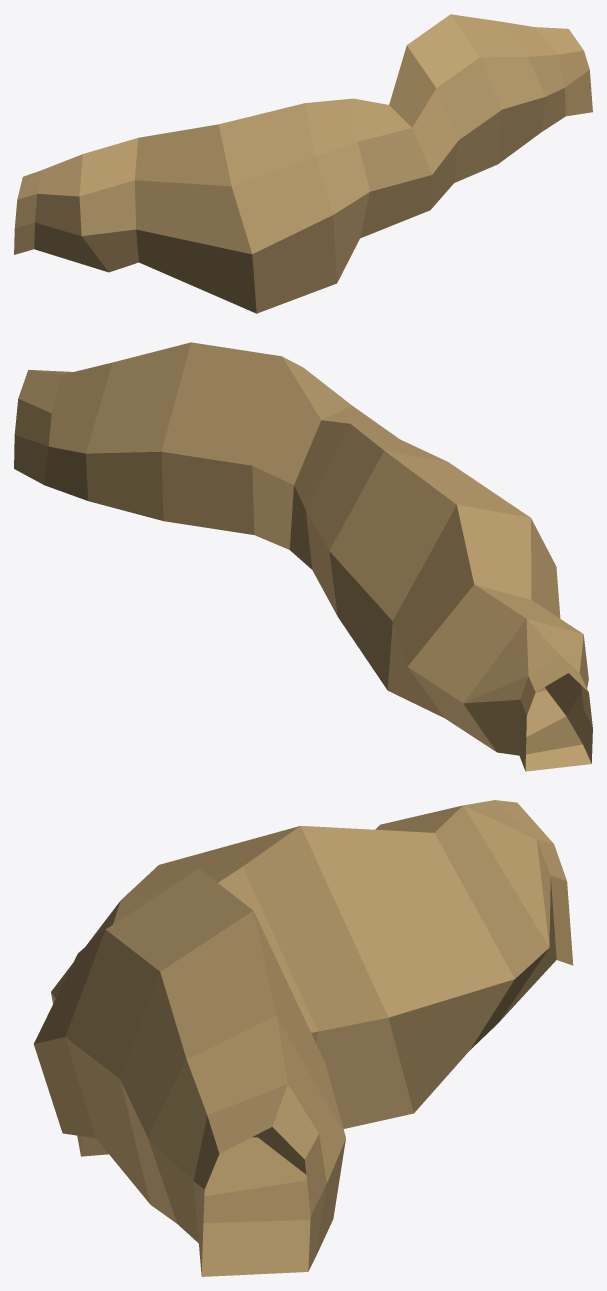
File: Tunnel-A01.fbx
3 renders of one model, top to bottom at view 1: azimuth 30°, elevation 25°; view 2: azimuth 150°, elevation 25°; view 3: azimuth 270°, elevation 25°, orthographic. The views are drawn at different scales.
Visible parts, largest first — view 1: Tunnel-A01; view 2: Tunnel-A01; view 3: Tunnel-A01.
Part boxes in pixels (x1,y1,x2,y2): Tunnel-A01: (14, 14, 592, 313); Tunnel-A01: (14, 342, 592, 771); Tunnel-A01: (34, 800, 573, 1276).
Size of the model in its own units: 1838 by 851 by 758.
